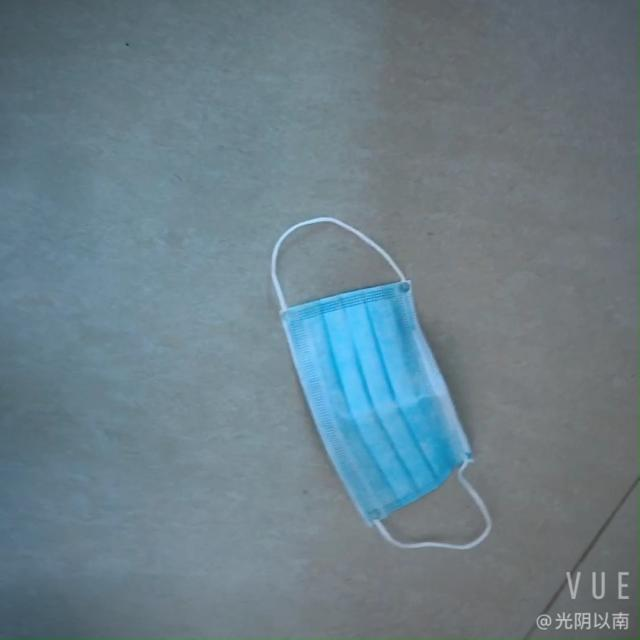non-organic waste: (279, 270, 458, 530)
